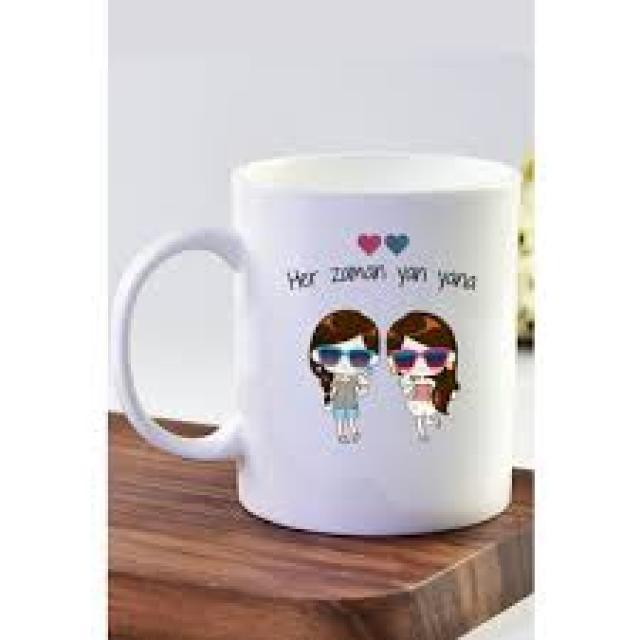taza: (110, 152, 524, 537)
